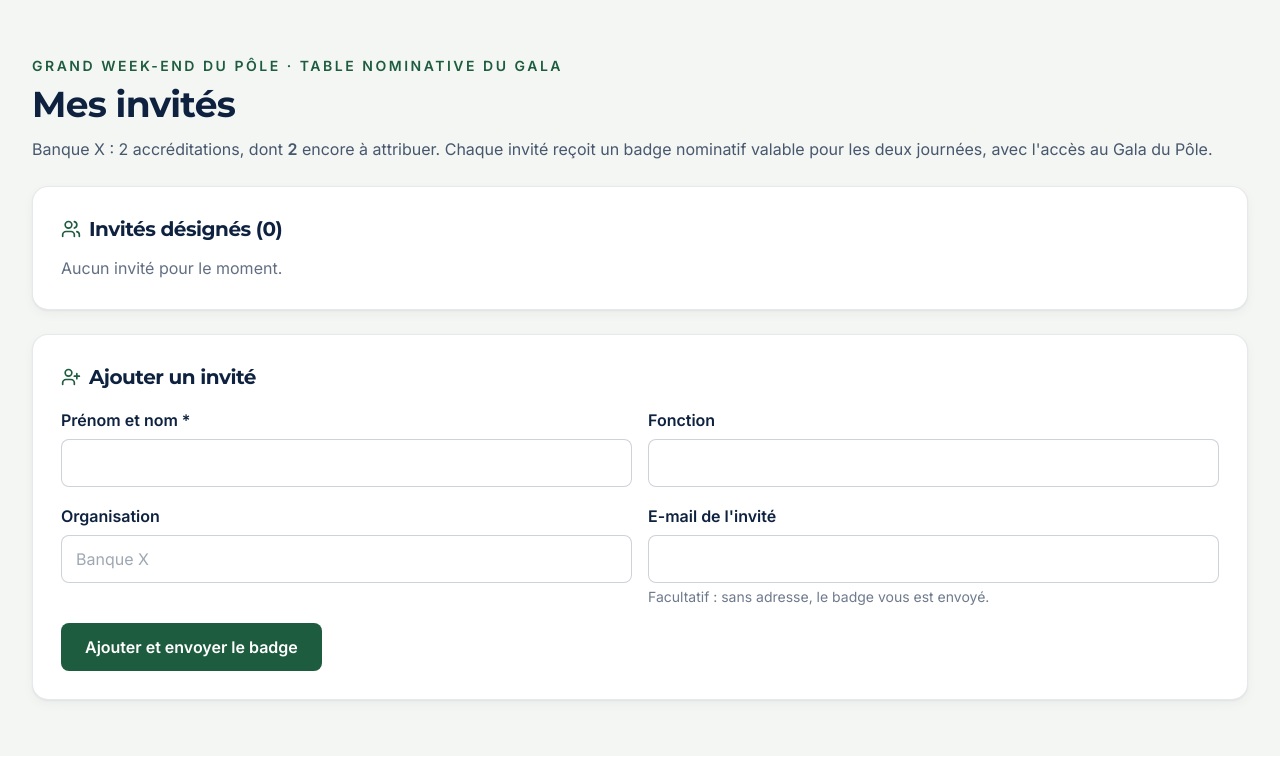
Test: Lien du contact : désigner ses invités › affiche le quota et ajoute un invité
Expected: the text "avec l'accès au Gala du Pôle" is shown, [982,139,1208,159]
In the field labelled "Prénom et nom *": (346, 463) [61,439,632,487], type "Invité Un"
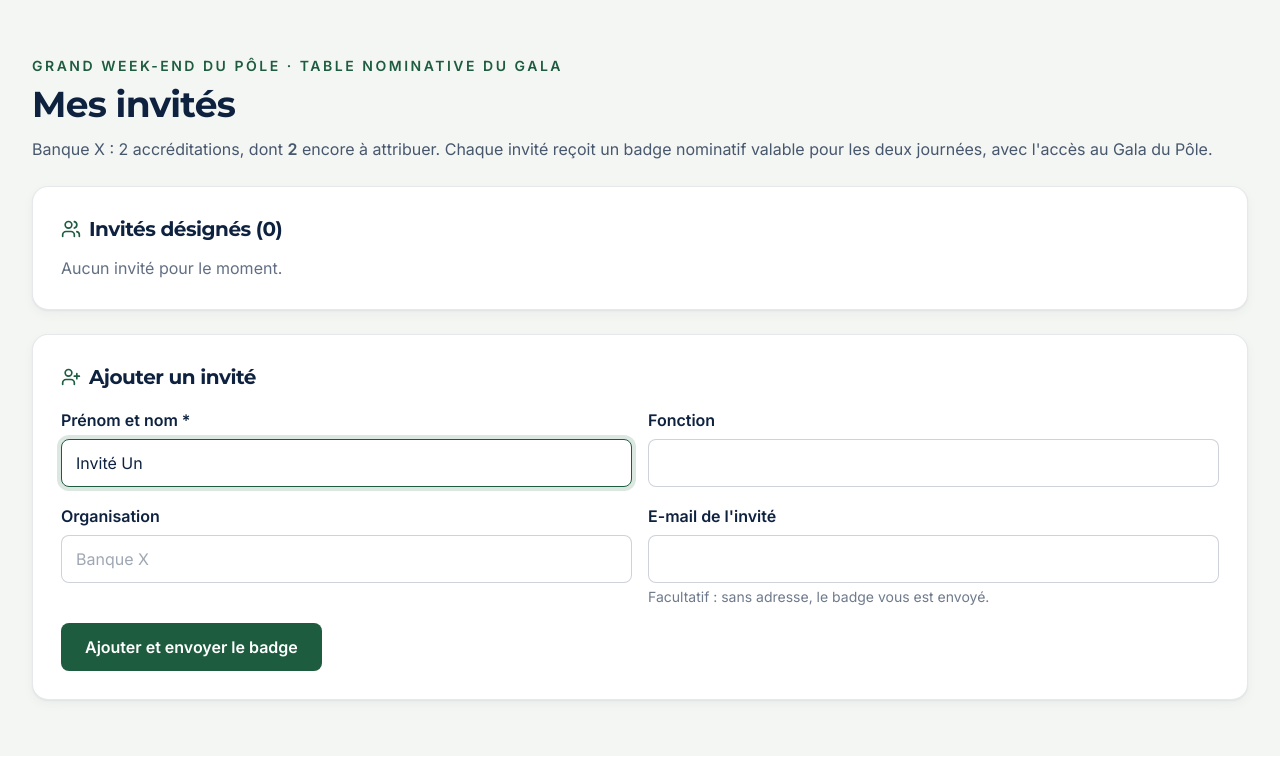
Click the button "Ajouter et envoyer le badge": (191, 647) [61,623,322,671]
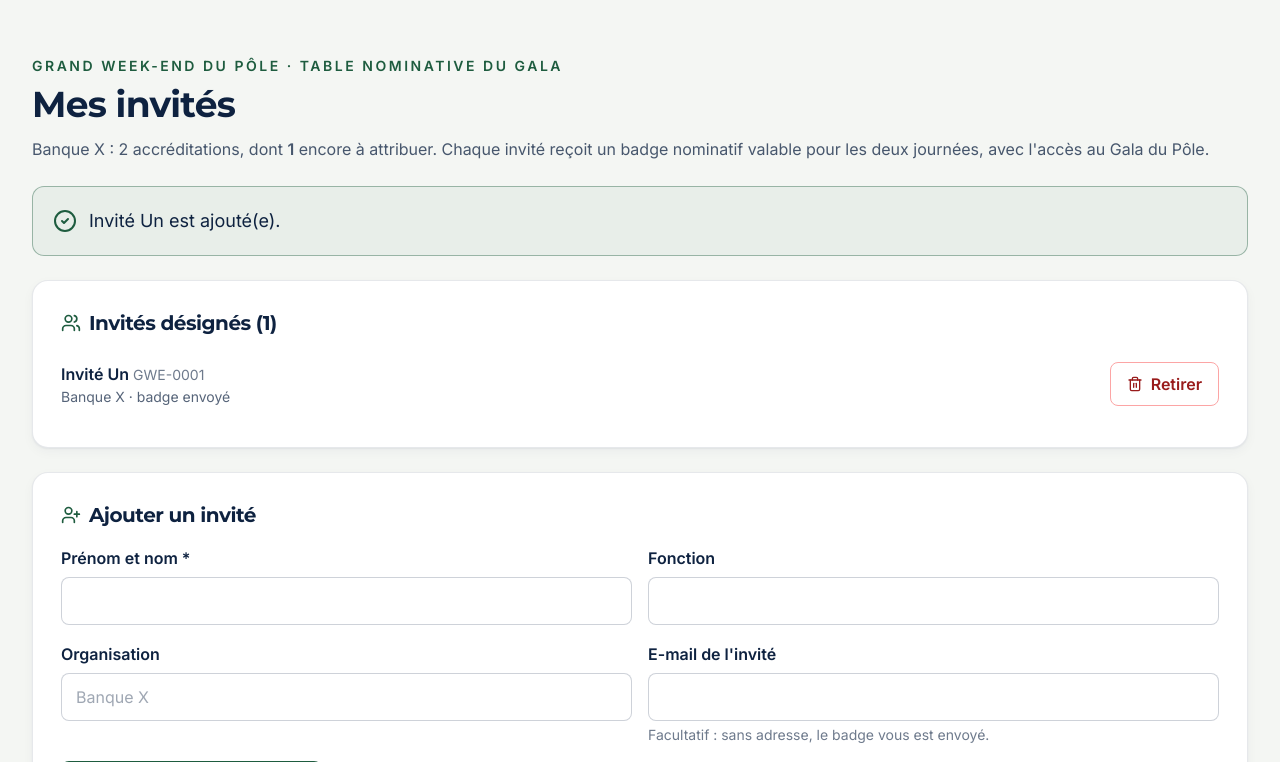
Now the text "Invité Un est ajouté(e)." is shown, box [89,207,280,235]
Now the text "GWE-0001" is shown, box [133,366,204,383]
